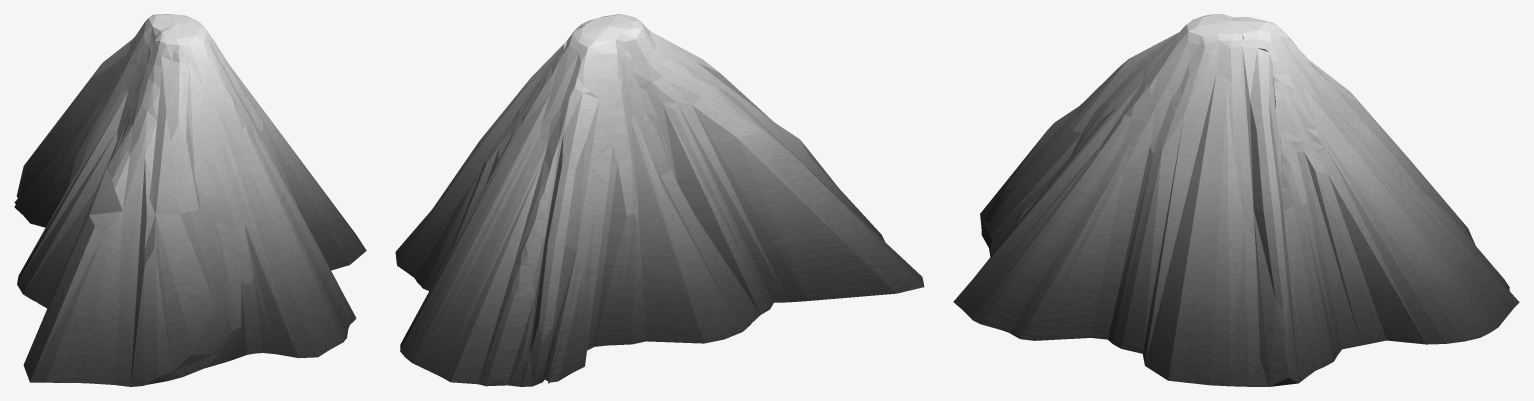
The model's file is Mountain for Hexagons.fbx.
3 renders of one model, left to right at view 1: azimuth 30°, elevation 25°; view 2: azimuth 150°, elevation 25°; view 3: azimuth 270°, elevation 25°, orthographic. The views are drawn at different scales.
Visible parts, largest first — view 1: Mountain 5 hex; view 2: Mountain 5 hex; view 3: Mountain 5 hex.
Part boxes in pixels (bbox=[...]): Mountain 5 hex: bbox=[14, 14, 366, 386]; Mountain 5 hex: bbox=[395, 14, 924, 386]; Mountain 5 hex: bbox=[953, 14, 1519, 386].
Size of the model in its own units: 4.17 by 2.49 by 4.67.
